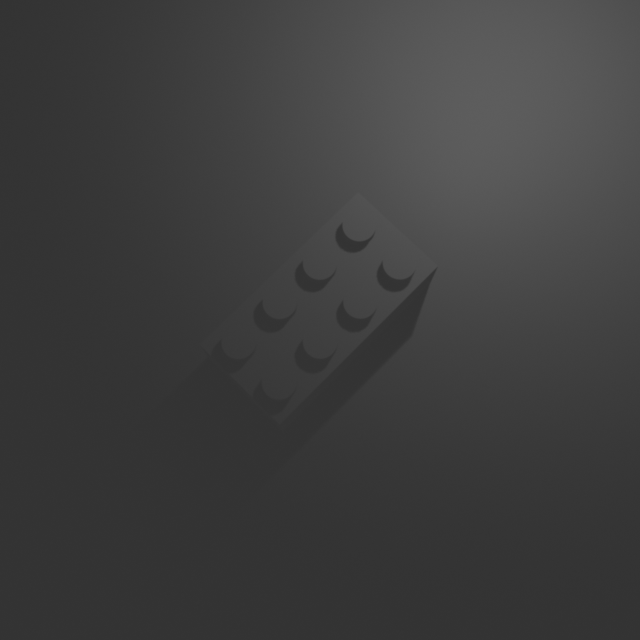lego_2x4: (198, 188, 440, 432)
